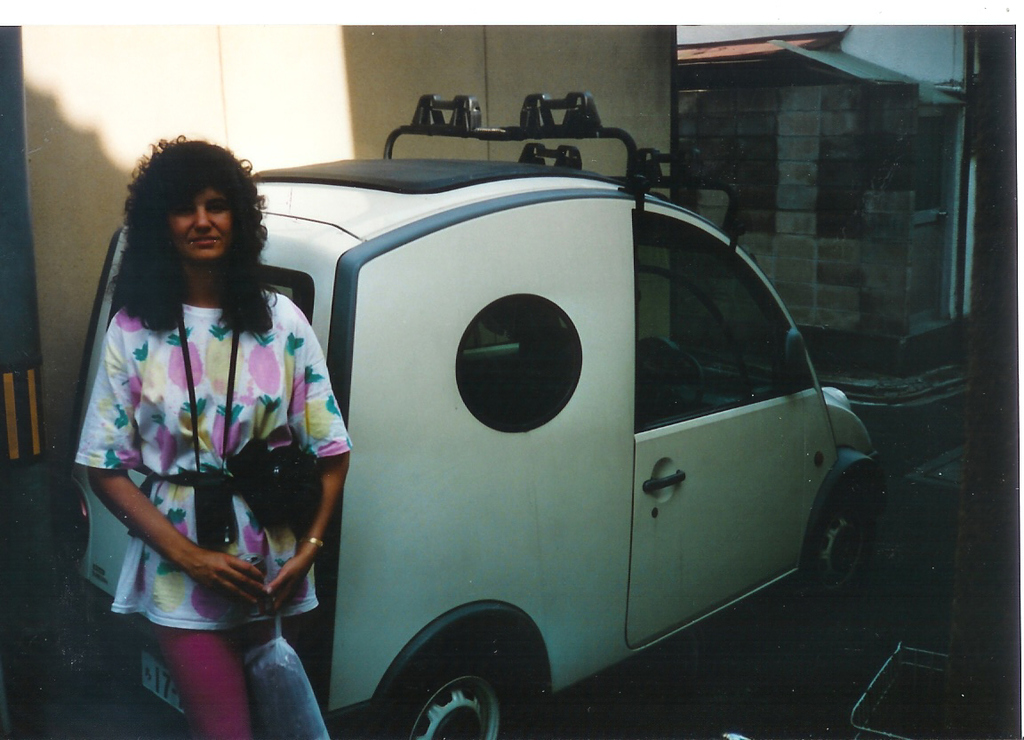Car: (64, 93, 883, 739)
